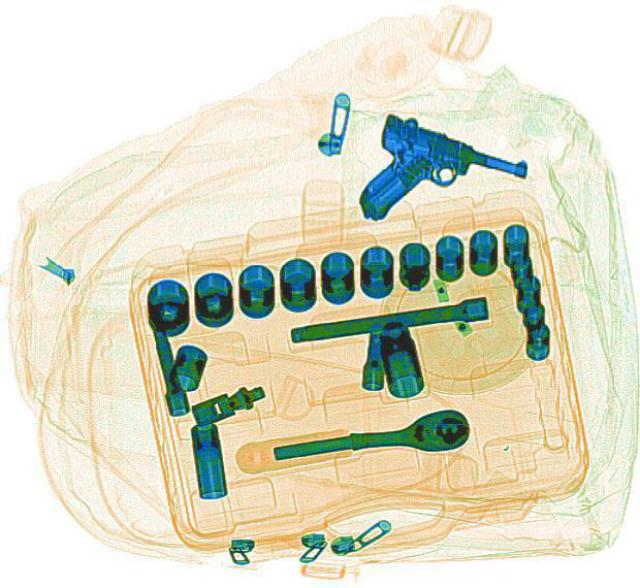Gun: (340, 109, 532, 254)
